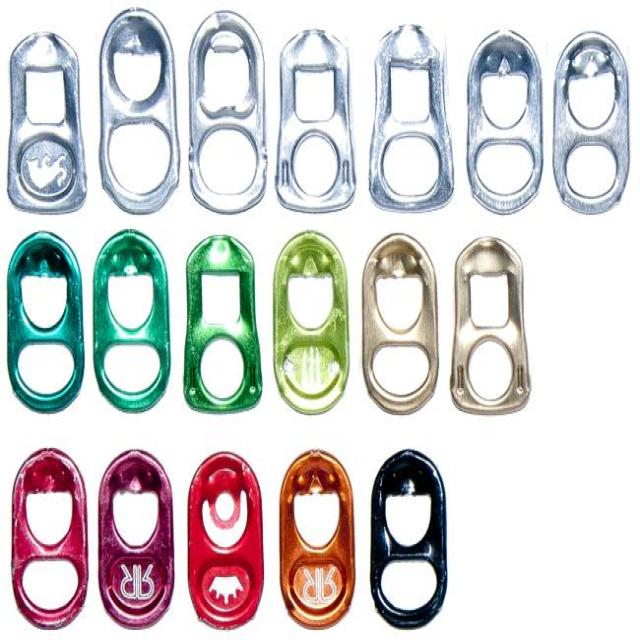pop tab: (96, 7, 181, 217), (187, 7, 270, 217), (368, 20, 456, 212), (274, 26, 358, 213), (7, 444, 90, 631), (549, 30, 632, 216), (448, 236, 532, 417), (367, 445, 448, 630), (7, 31, 88, 215), (270, 229, 350, 415), (183, 232, 264, 415), (96, 447, 176, 631), (93, 225, 171, 412), (6, 228, 82, 416), (467, 28, 543, 215), (278, 448, 356, 630), (362, 232, 439, 415), (187, 450, 265, 630)
